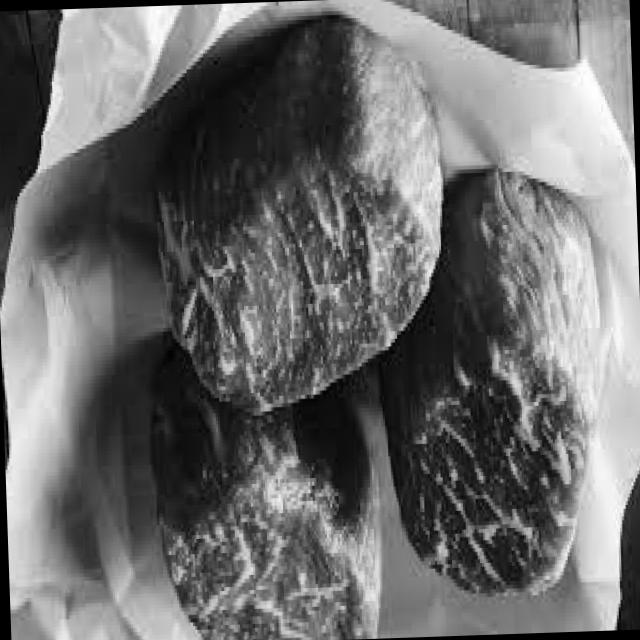than bit tet: (151, 29, 448, 410), (410, 207, 590, 591), (147, 381, 383, 640)
